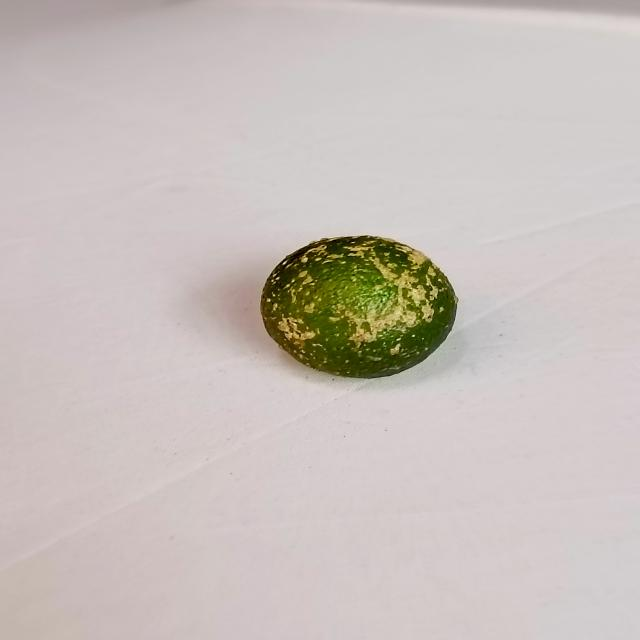scab: (258, 235, 456, 382)
